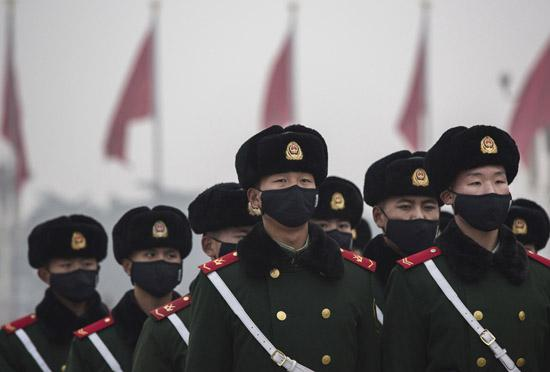OK: (260, 164, 322, 226), (456, 165, 511, 229), (387, 195, 445, 253), (130, 240, 185, 295), (50, 255, 99, 304), (313, 218, 355, 258)
